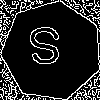S: (27, 26, 64, 74)
